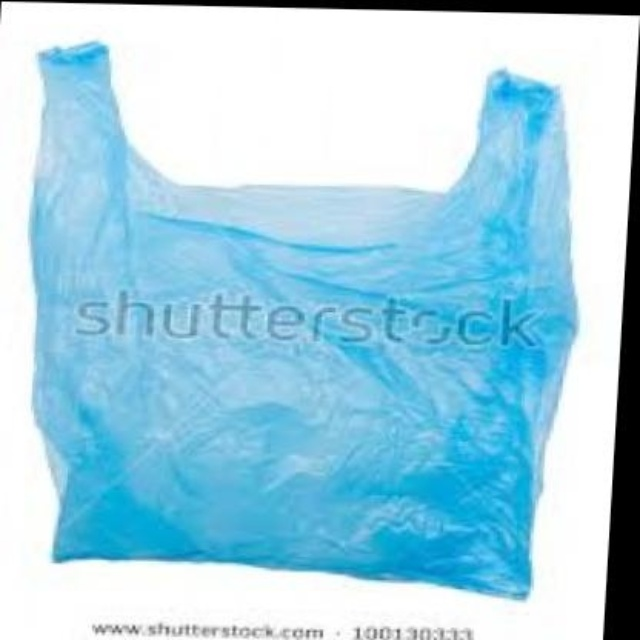trash: (31, 43, 574, 595)
